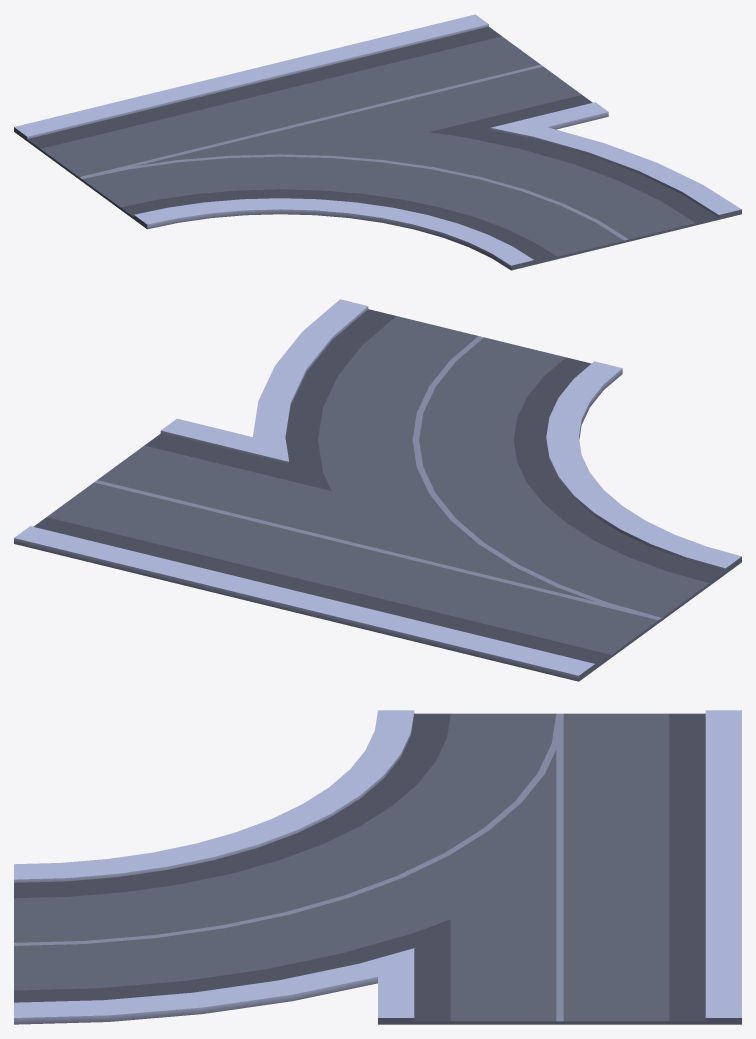
Rendered from road-curve-intersection.glb.
3 renders of one model, top to bottom at view 1: azimuth 30°, elevation 25°; view 2: azimuth 150°, elevation 25°; view 3: azimuth 270°, elevation 25°, orthographic. The views are drawn at different scales.
Visible parts, largest first — view 1: road-curve-intersection; view 2: road-curve-intersection; view 3: road-curve-intersection.
Boxes of the visible parts, left/top/right/bottom form: road-curve-intersection: left=14, top=14, right=741, bottom=270; road-curve-intersection: left=14, top=299, right=741, bottom=681; road-curve-intersection: left=14, top=710, right=741, bottom=1024.
Bounding box in the file's own units: 2 × 0.02 × 2.
Materials: 1 (1 with a texture image).
